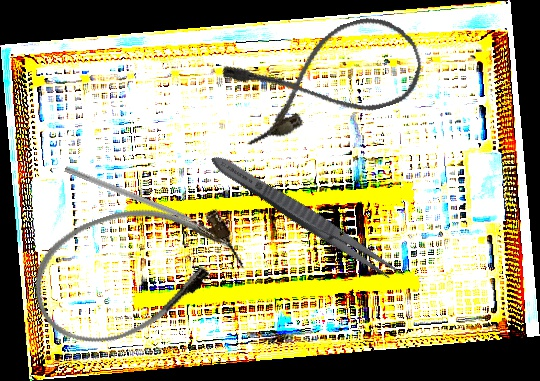Cannula: (17, 179, 253, 361), (218, 5, 433, 150)
Chopper: (61, 165, 213, 239)
Dressing Forceps: (205, 148, 408, 287)
